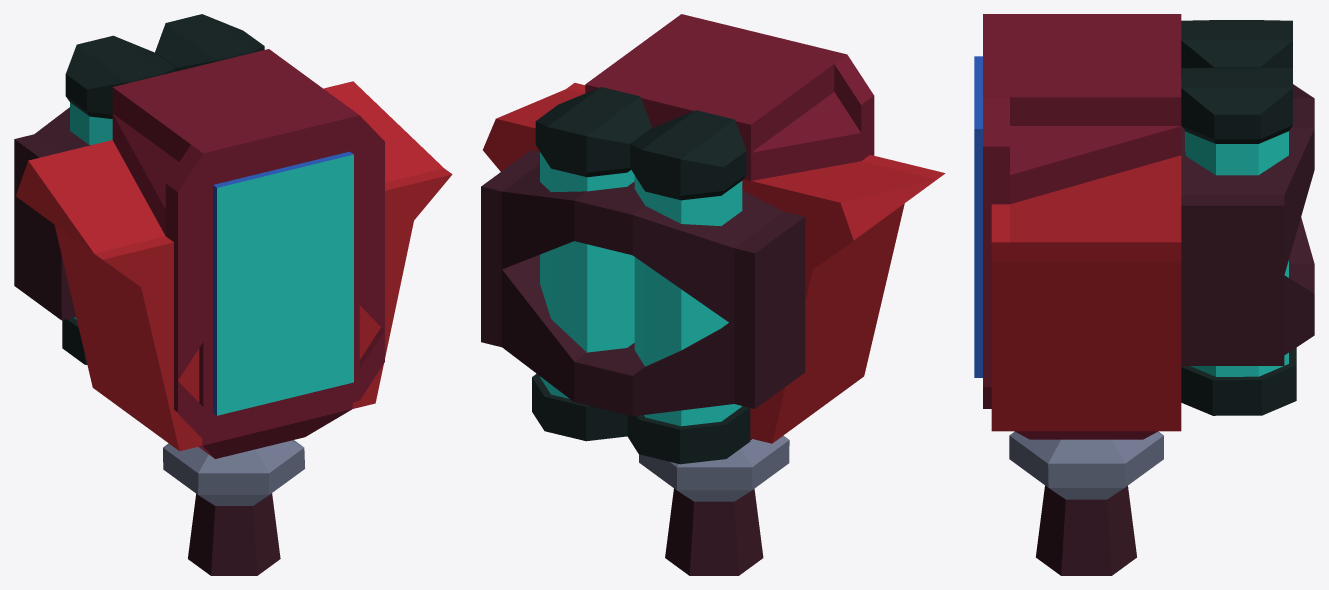
The model's file is Greasley_Corpus.fbx.
3 views of the same model, side by side, from view 1: azimuth 30°, elevation 25°; view 2: azimuth 150°, elevation 25°; view 3: azimuth 270°, elevation 25° (orthographic). The views are drawn at different scales.
Visible parts, largest first — view 1: Back; view 2: Back; view 3: Back.
Boxes of the visible parts, left/top/right/bottom form: Back: left=14, top=14, right=452, bottom=575; Back: left=481, top=14, right=945, bottom=575; Back: left=974, top=14, right=1314, bottom=575.
Size of the model in its own units: 281 by 353 by 216.
